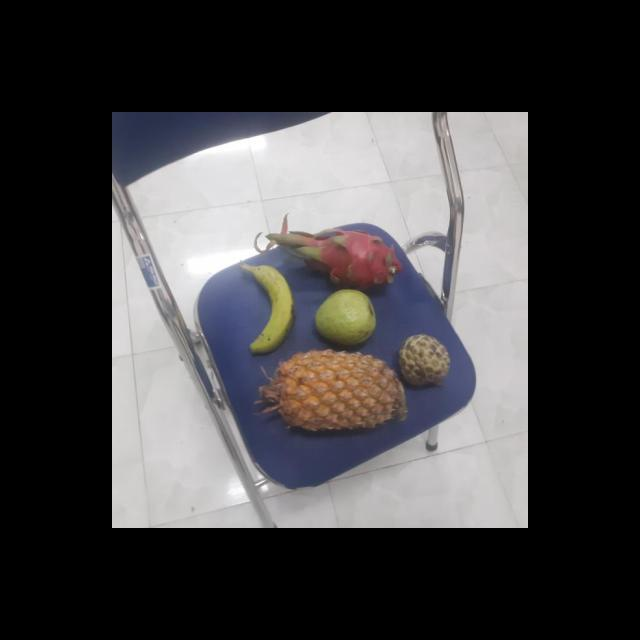Sakya fruit: (394, 334, 450, 388)
banana: (244, 263, 296, 354)
guava: (312, 289, 380, 347)
pineapple: (261, 349, 409, 434)
pitaya: (304, 225, 398, 292)
